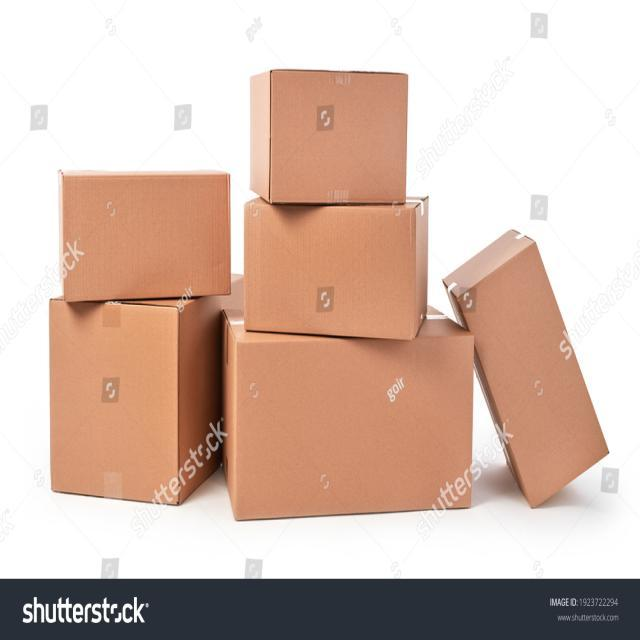BoxFace: (237, 336, 472, 522), (458, 242, 609, 510), (49, 297, 180, 504), (245, 204, 414, 340), (63, 172, 229, 304), (268, 69, 406, 207)
